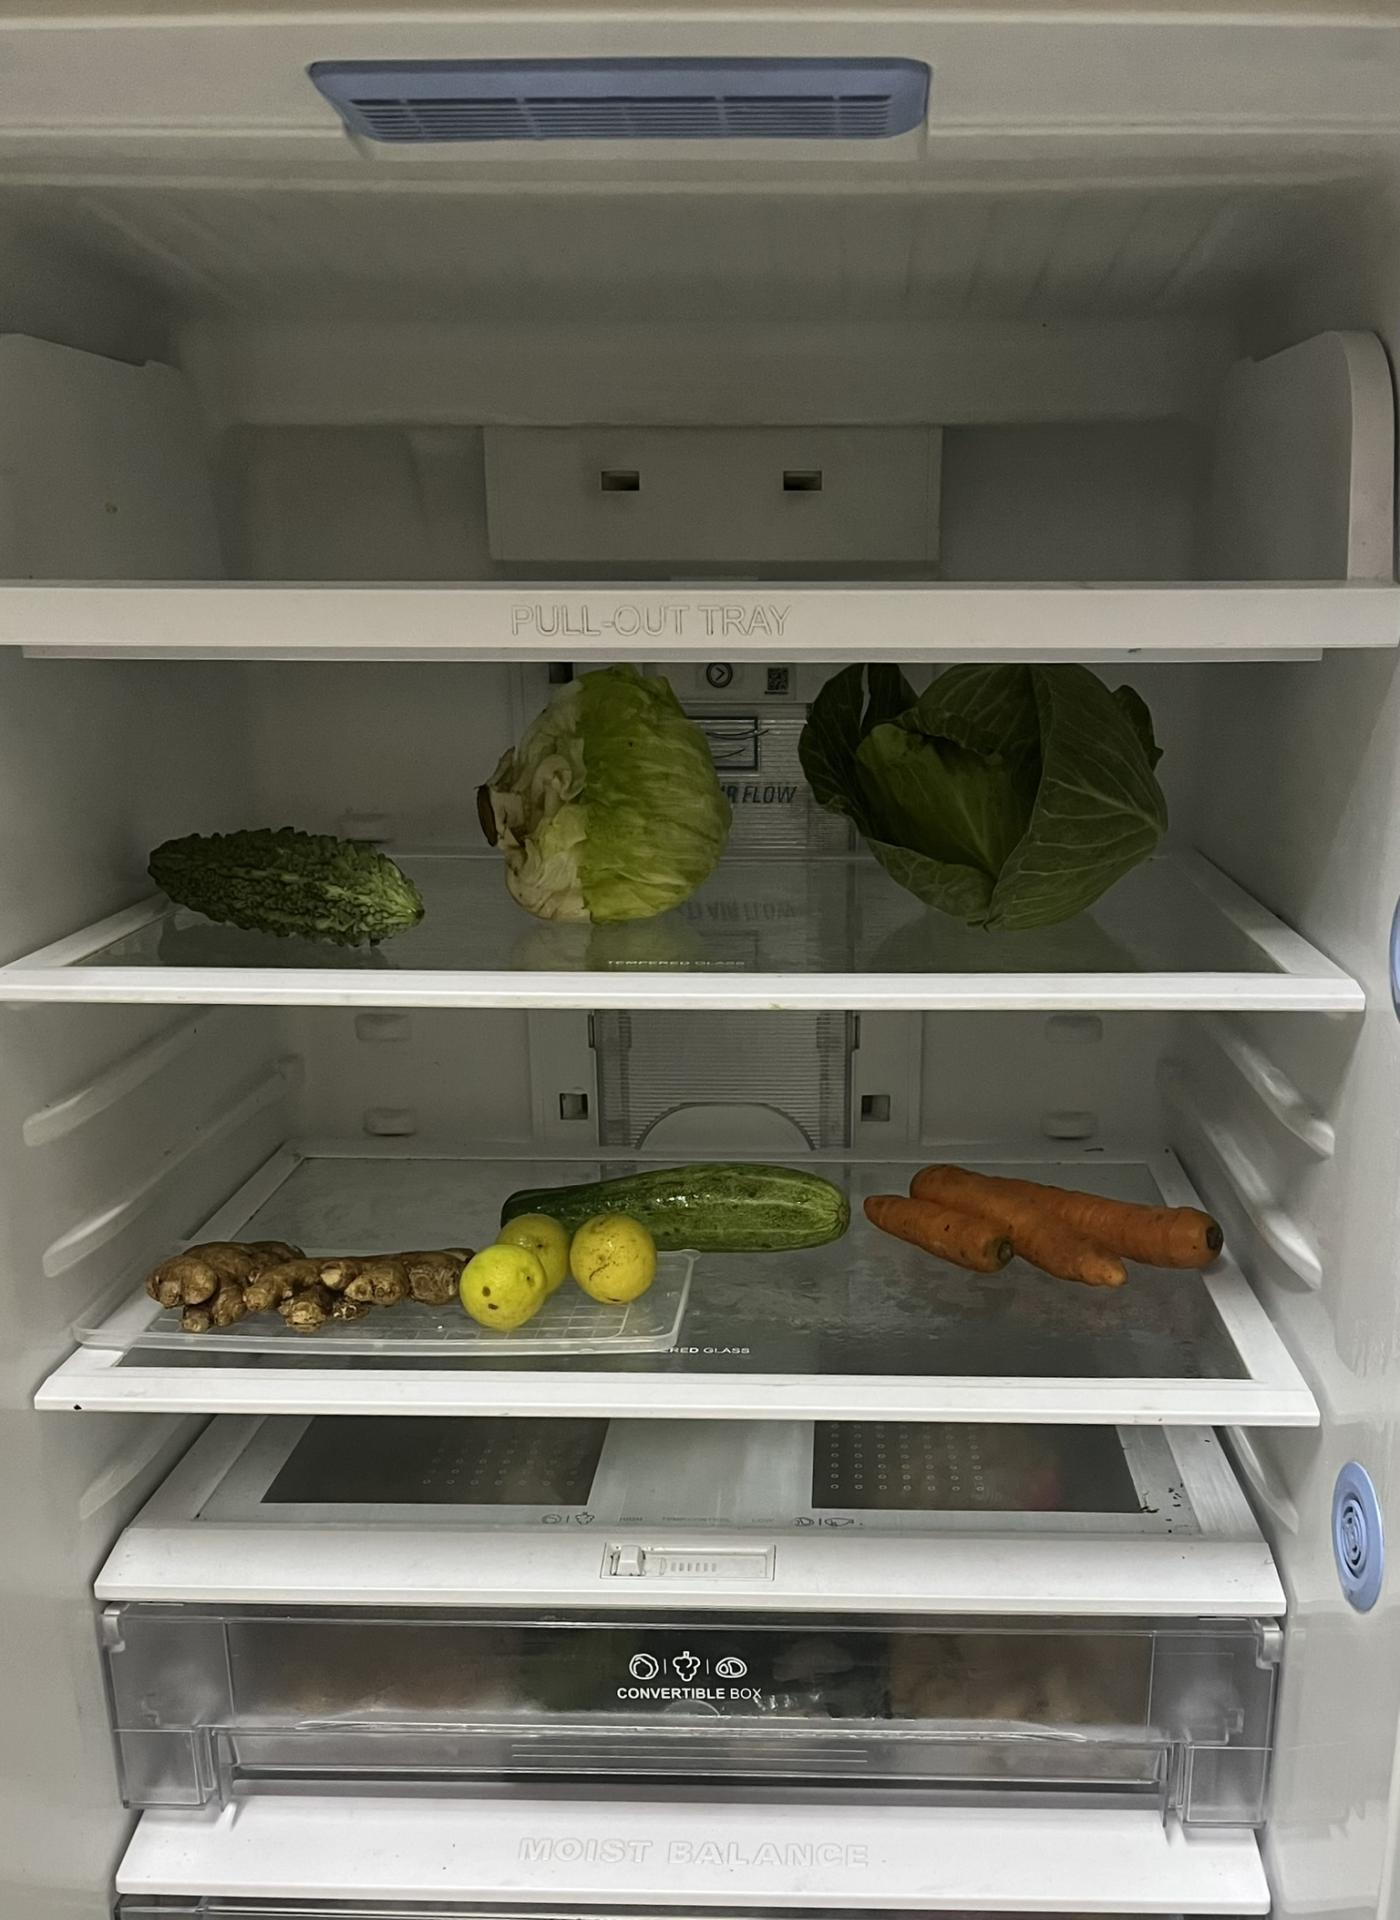cabbage: (804, 663, 1176, 911)
lemon: (143, 1215, 494, 1346), (458, 1206, 666, 1339)
lettuce: (479, 672, 740, 935)
